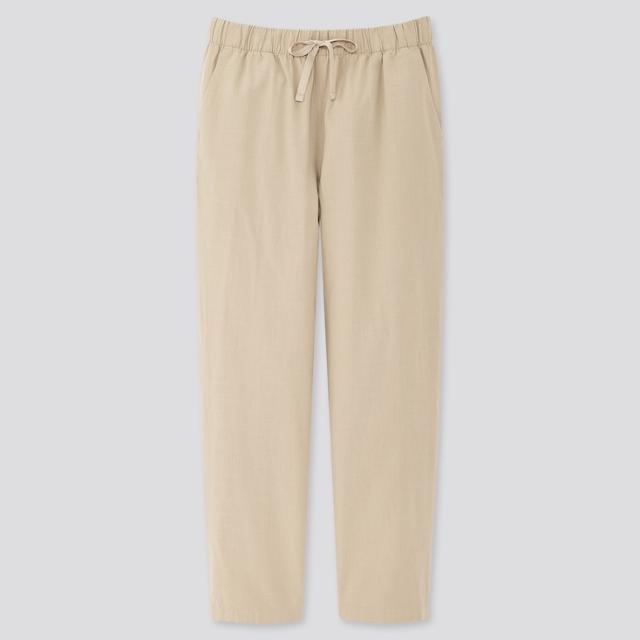long-pants: (195, 17, 447, 631)
